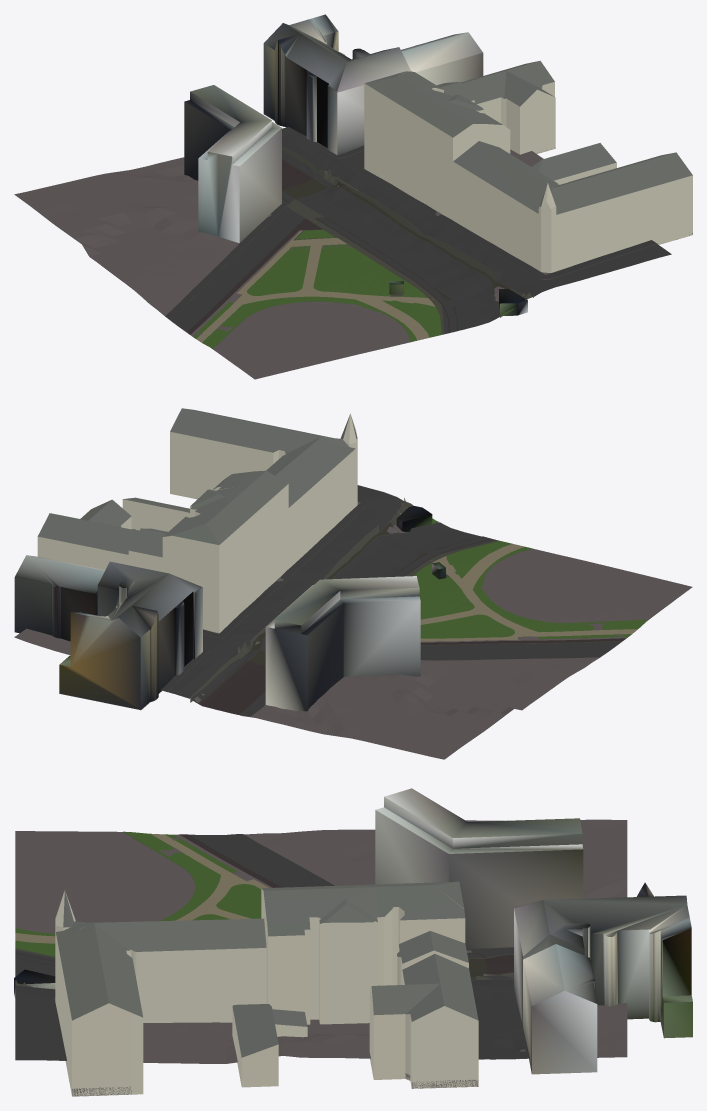
The picture shows the model from 3 angles, top to bottom: view 1: azimuth 30°, elevation 25°; view 2: azimuth 150°, elevation 25°; view 3: azimuth 270°, elevation 25°; orthographic projection. The views are drawn at different scales.
Parts seen in each view (by area): view 1: c_m05_p08; view 2: c_m05_p08; view 3: c_m05_p08.
Boxes of the visible parts, bbox=[...] form: c_m05_p08: bbox=[14, 14, 692, 379]; c_m05_p08: bbox=[14, 408, 692, 759]; c_m05_p08: bbox=[14, 788, 692, 1096].
Bounding box in the file's own units: 141 × 32.28 × 142.
